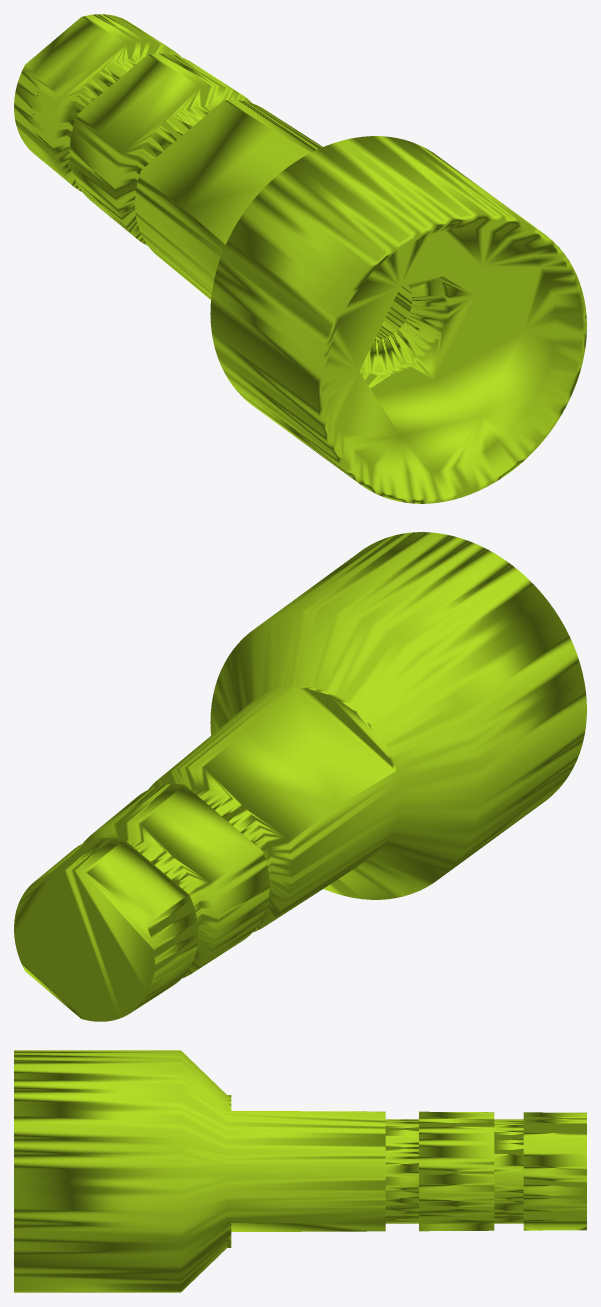
File: implant_5.7.obj
The picture shows the model from 3 angles, top to bottom: view 1: azimuth 30°, elevation 25°; view 2: azimuth 150°, elevation 25°; view 3: azimuth 270°, elevation 25°; orthographic projection. The views are drawn at different scales.
Size of the model in its own units: 5.8 by 5.8 by 13.72.
